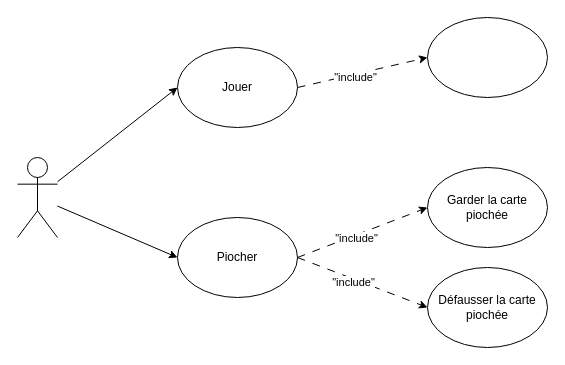
The diagram is 565 pixels wide and 365 high, and some of its shapes have lost their labels. Here are the shapes that lost their labels. From the top down, the centre of each, then its label:
At [487,57]: "Prendre les cartes jouées par le joueur précédent".
At [37,197]: "Joueur".
